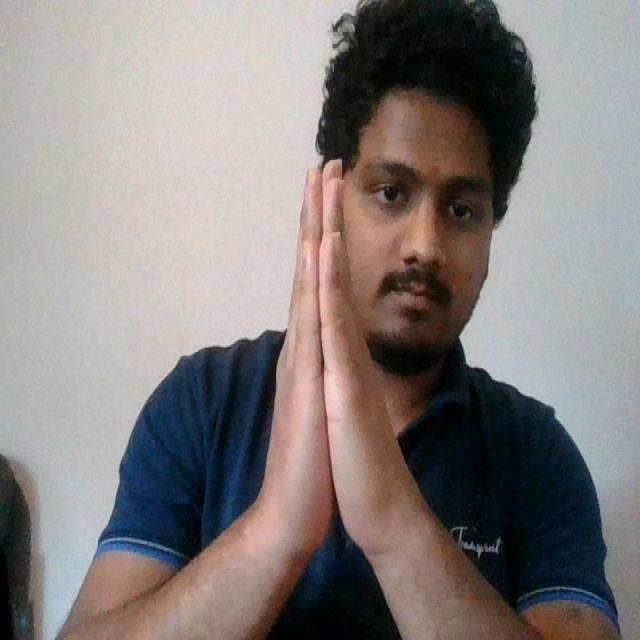Thanks: (251, 150, 421, 583)
